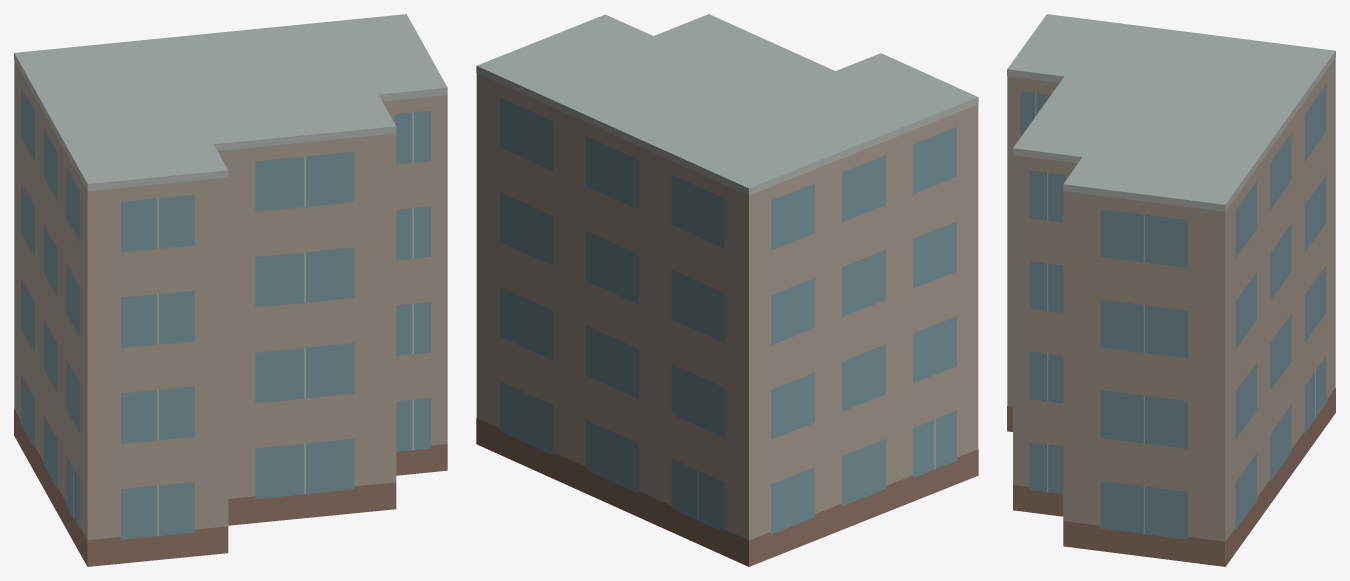
File: survey-upis-32831322.glb
The picture shows the model from 3 angles, left to right: view 1: azimuth 30°, elevation 25°; view 2: azimuth 150°, elevation 25°; view 3: azimuth 270°, elevation 25°; orthographic projection. The views are drawn at different scales.
Parts seen in each view (by area): view 1: survey-upis-32831322.tmp; view 2: survey-upis-32831322.tmp; view 3: survey-upis-32831322.tmp.
Boxes of the visible parts, <box> form: survey-upis-32831322.tmp: <box>14,14,447,566</box>; survey-upis-32831322.tmp: <box>476,14,978,566</box>; survey-upis-32831322.tmp: <box>1007,14,1335,566</box>.
Size of the model in its own units: 14.59 by 12.9 by 10.62.
